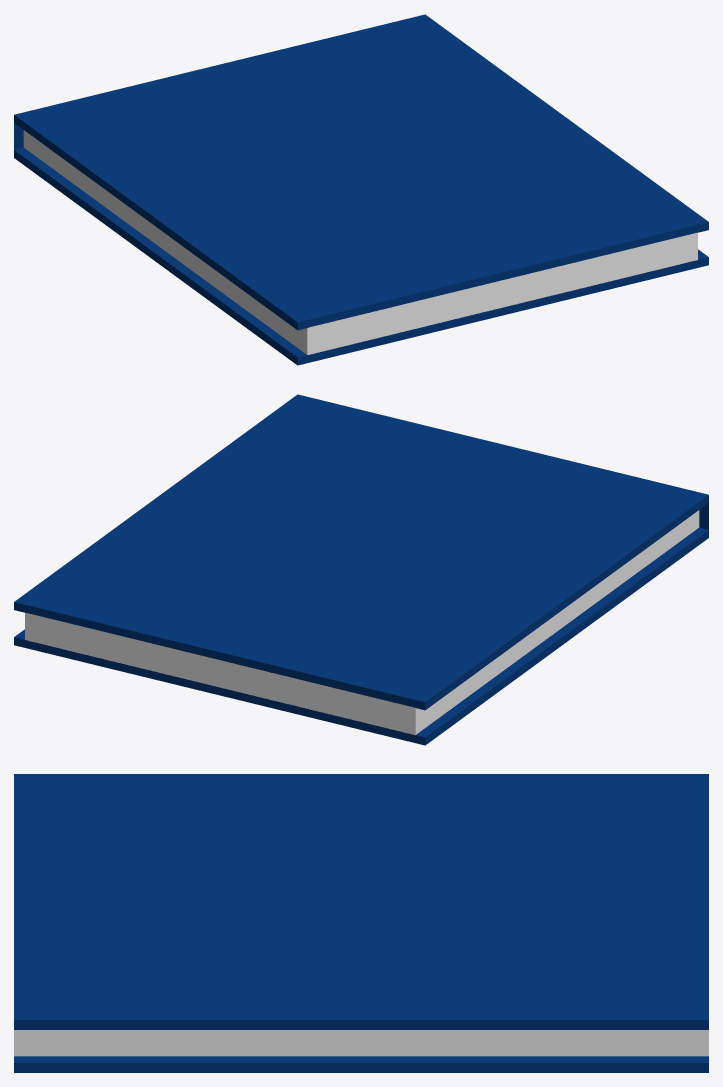
File: notebook.gltf
The picture shows the model from 3 angles, top to bottom: view 1: azimuth 30°, elevation 25°; view 2: azimuth 150°, elevation 25°; view 3: azimuth 270°, elevation 25°; orthographic projection. The views are drawn at different scales.
Parts seen in each view (by area): view 1: node-0; view 2: node-0; view 3: node-0.
Part boxes in pixels (x1=…): node-0: x1=14, y1=14, x2=708, y2=365; node-0: x1=14, y1=394, x2=708, y2=745; node-0: x1=14, y1=774, x2=708, y2=1072.
Size of the model in its own units: 7.01 by 0.7039 by 8.38.
